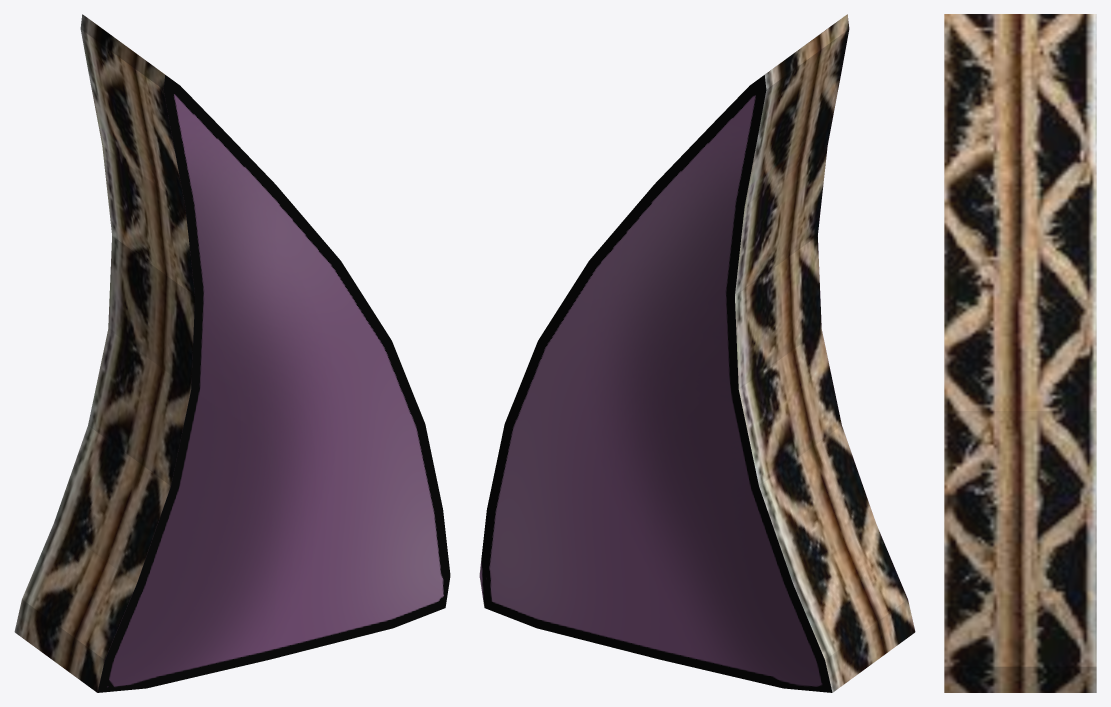
The model's file is Epine.fbx.
3 renders of one model, left to right at view 1: azimuth 30°, elevation 25°; view 2: azimuth 150°, elevation 25°; view 3: azimuth 270°, elevation 25°, orthographic. The views are drawn at different scales.
Visible parts, largest first — view 1: épine; view 2: épine; view 3: épine.
Boxes of the visible parts, x1,y1,x2,y2 form: épine: (14, 14, 450, 692); épine: (479, 14, 915, 692); épine: (944, 14, 1096, 692).
Bounding box in the file's own units: 123 × 203 × 50.
